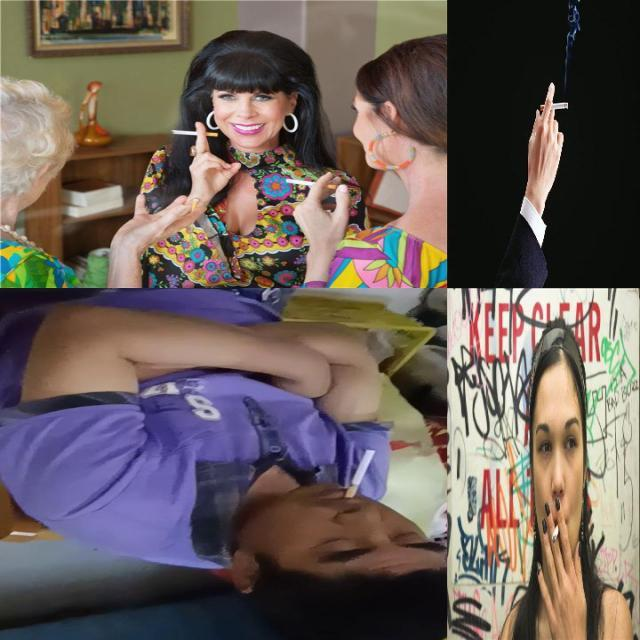smoking: (343, 449, 378, 498), (286, 178, 338, 190), (170, 130, 218, 138), (540, 102, 568, 112), (552, 522, 560, 544)
